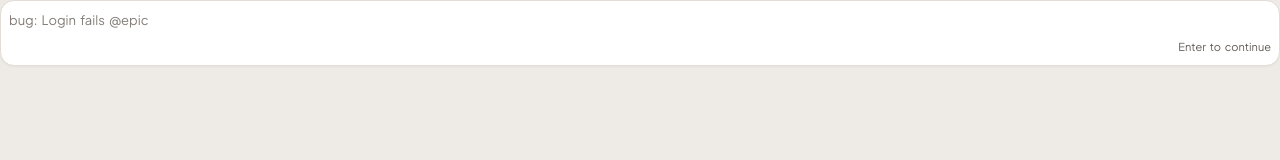
Test: QuickAdd › shows parsed chips and opens the prefilled create form on Enter
This screenshot has width=1280, height=160.
Later steps or results of the test are not shown.
In the field named "quick add": (640, 21) [9,11,1271,30], type "bug: Crash @pay"
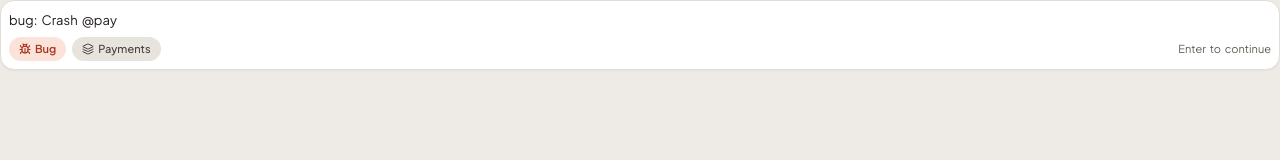
Expected: the text "Bug" is shown, [9,36,66,60]
Expected: the text "Payments" is shown, [72,36,161,60]
